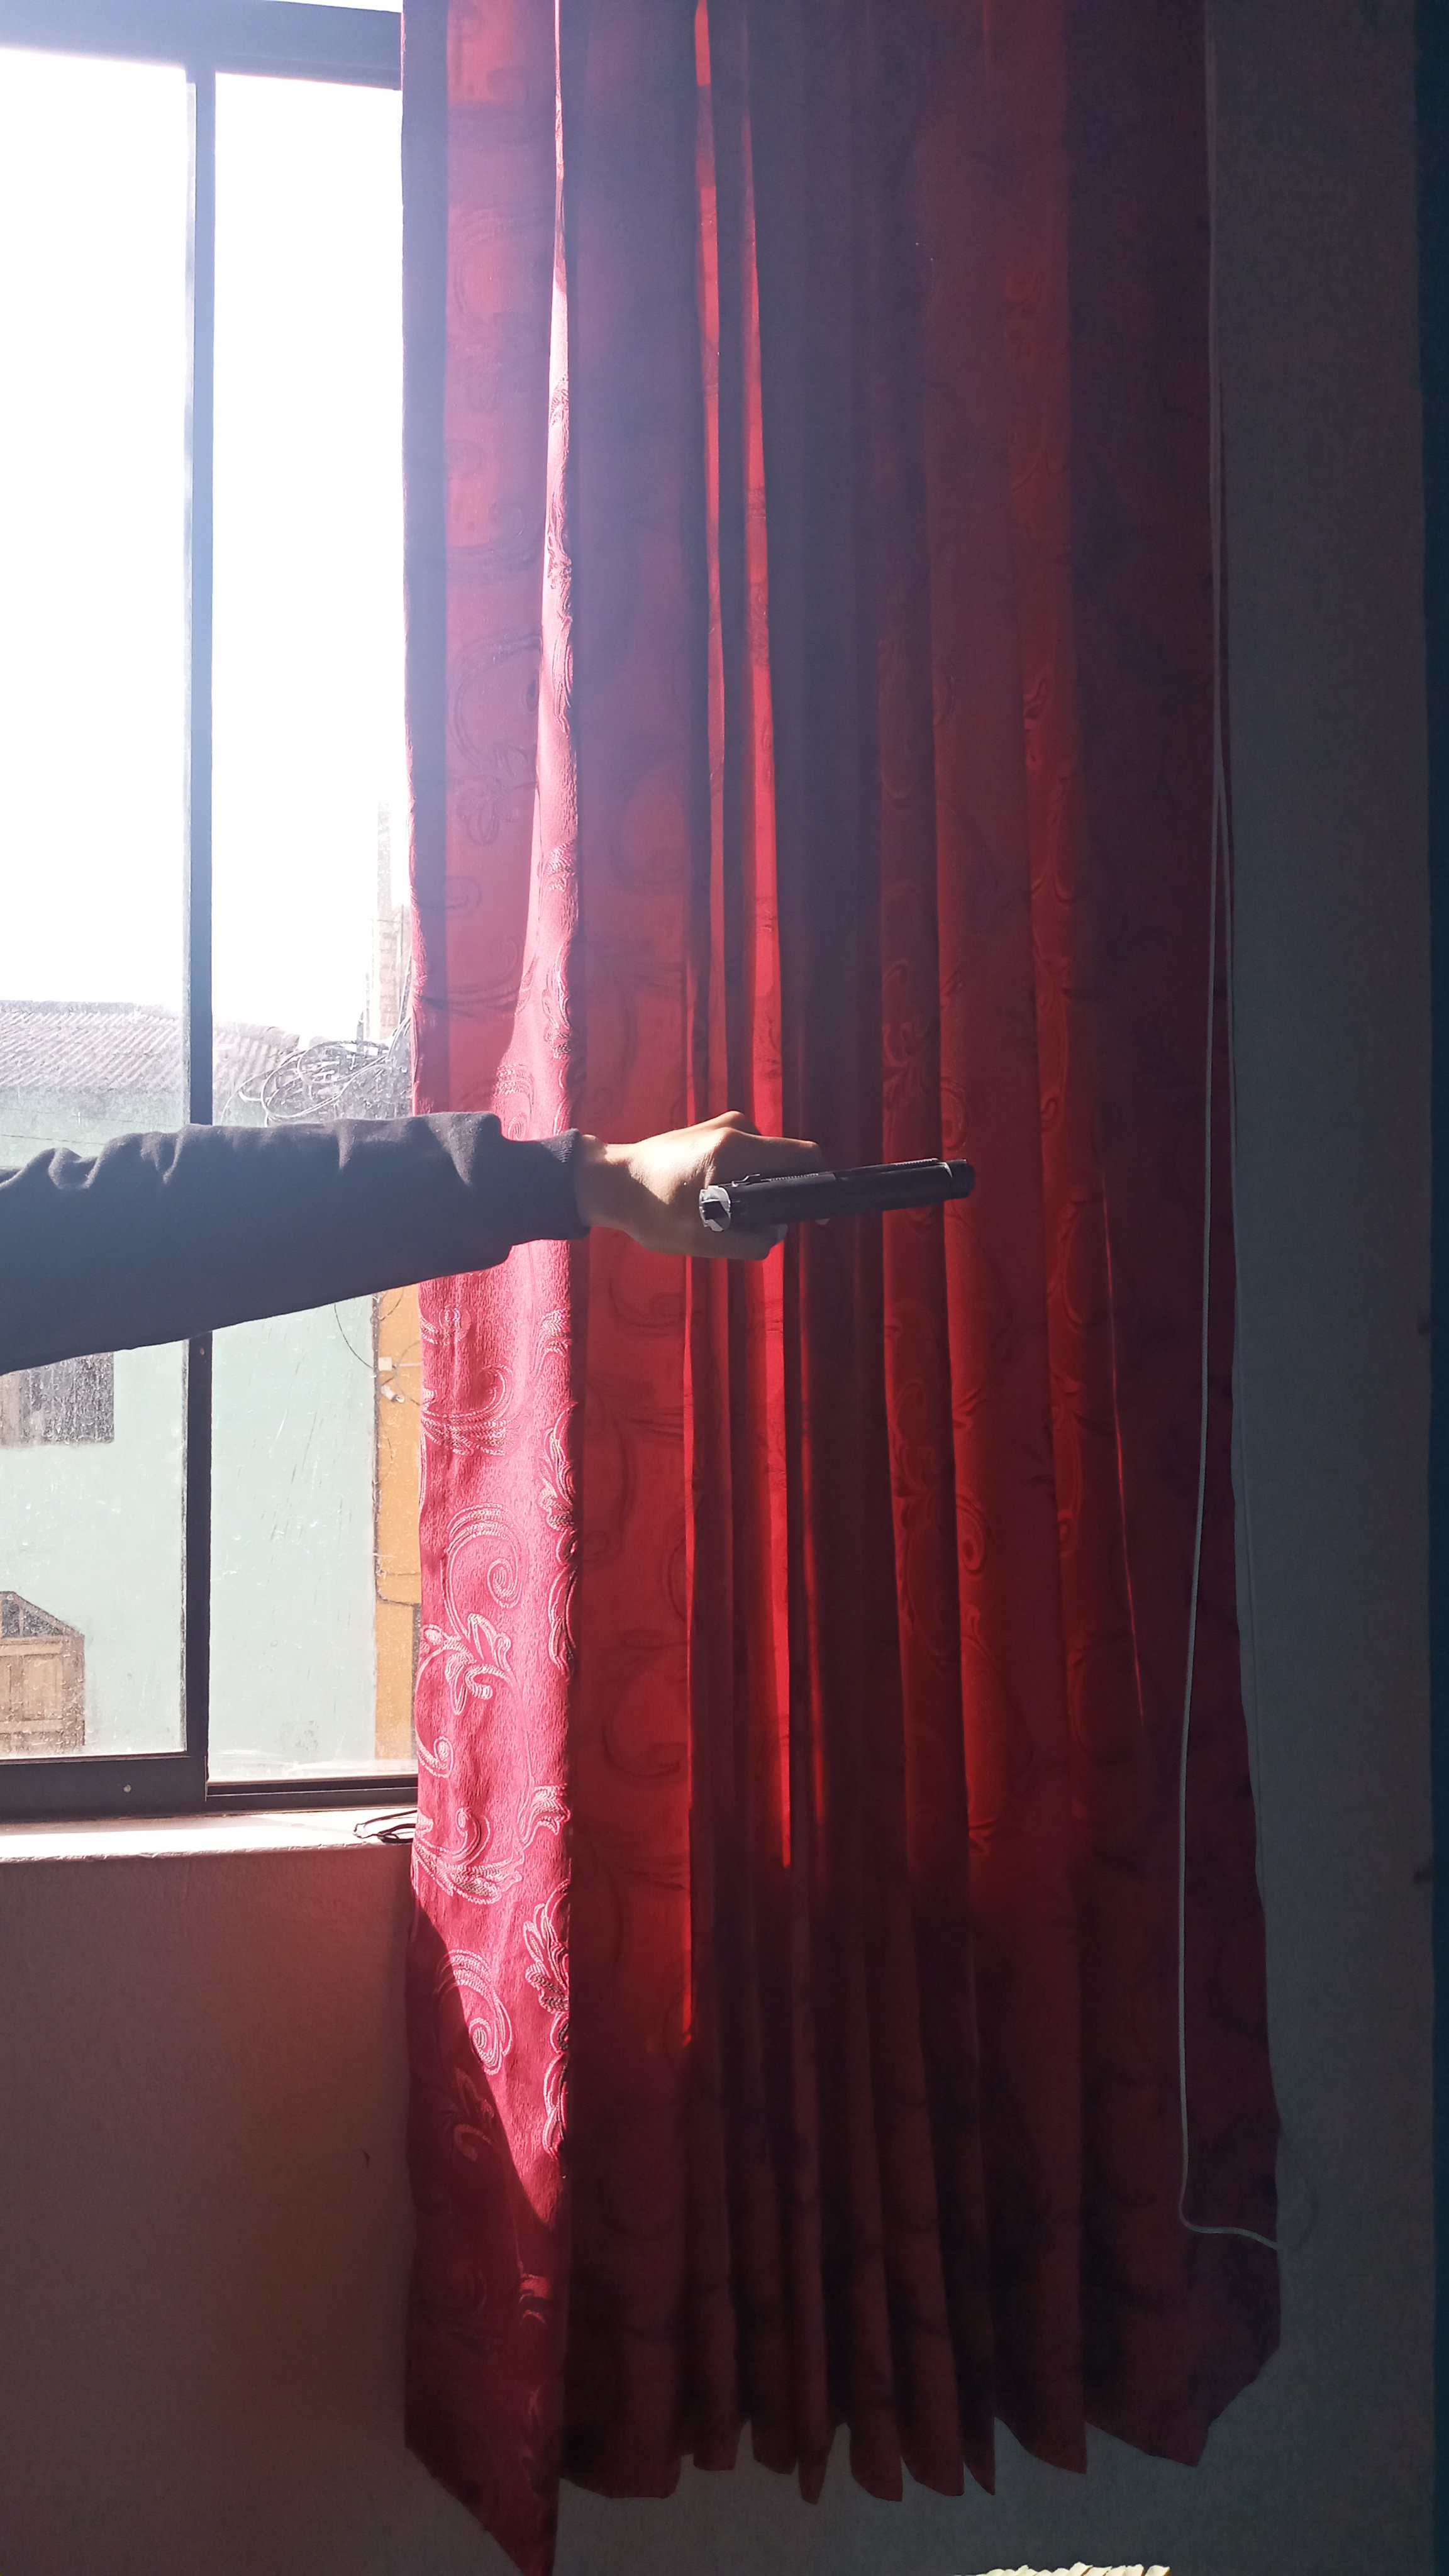Arma: (690, 1146, 994, 1224)
